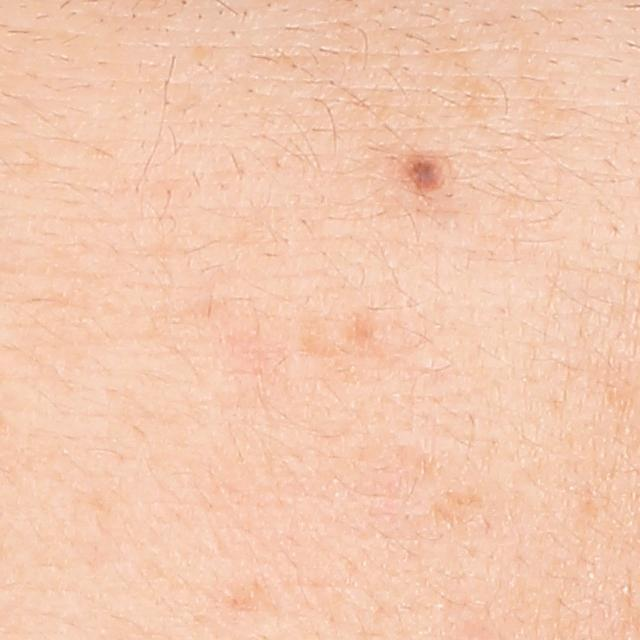nevus: (404, 154, 449, 193)
